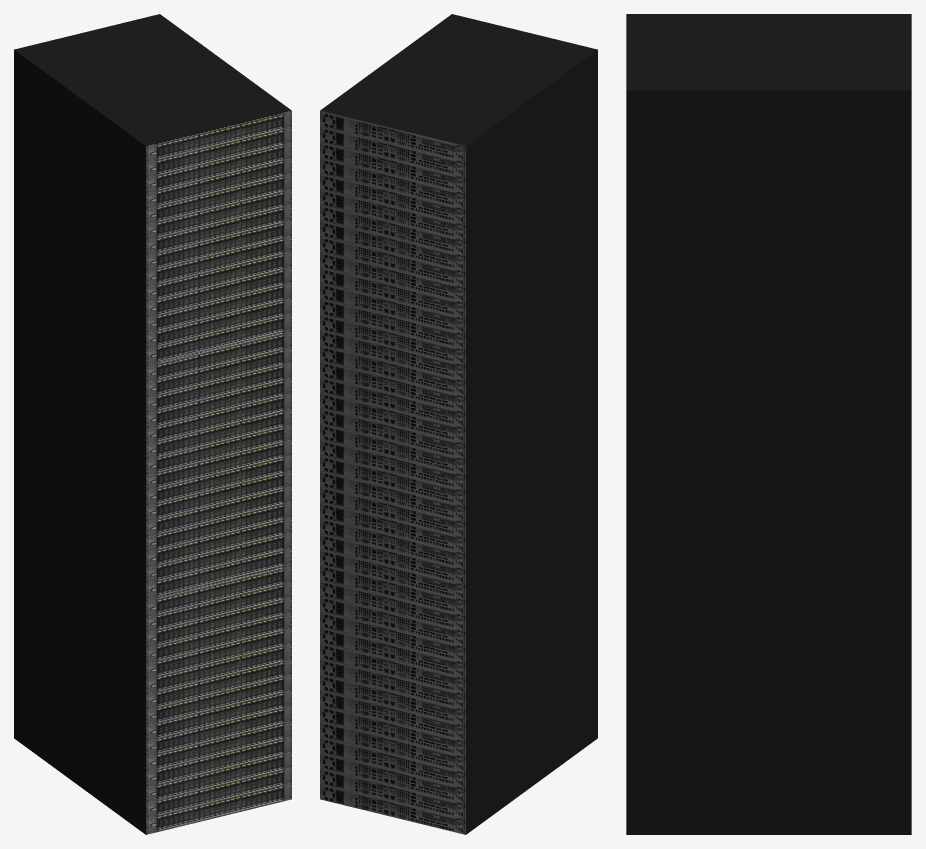
Rendered from NDR44.fbx.
3 views of the same model, side by side, from view 1: azimuth 30°, elevation 25°; view 2: azimuth 150°, elevation 25°; view 3: azimuth 270°, elevation 25° (orthographic). The views are drawn at different scales.
Parts seen in each view (by area): view 1: NDR44; view 2: NDR44; view 3: NDR44.
Part boxes in pixels (box(x1,y1,x2,y2)): NDR44: box(14, 14, 291, 834); NDR44: box(320, 14, 597, 834); NDR44: box(626, 14, 911, 834).
Size of the model in its own units: 434 by 1958 by 680.
Materials: 3 (2 with a texture image).
